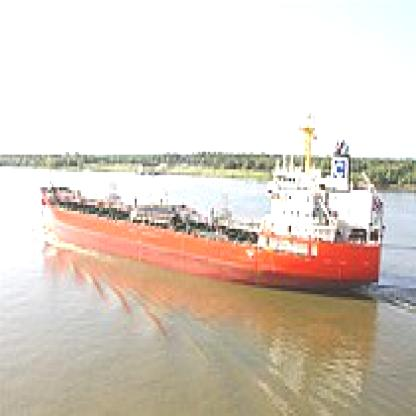Tanker: (34, 89, 390, 312)
